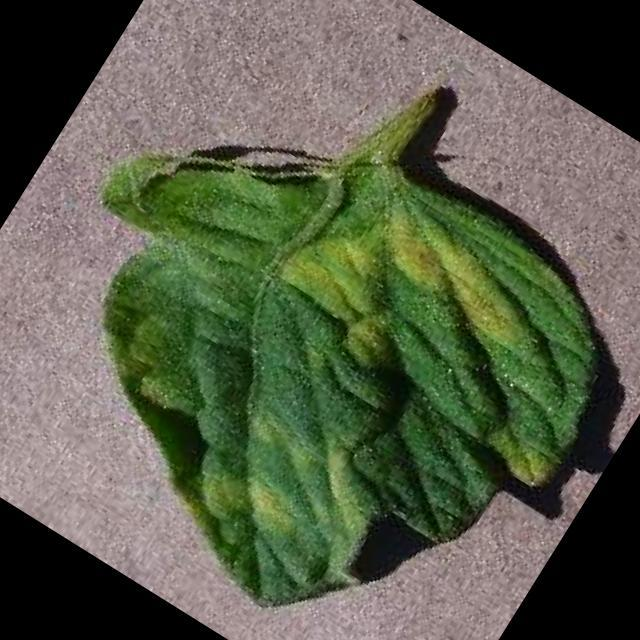Tomato mold leaf: (0, 31, 640, 640)
